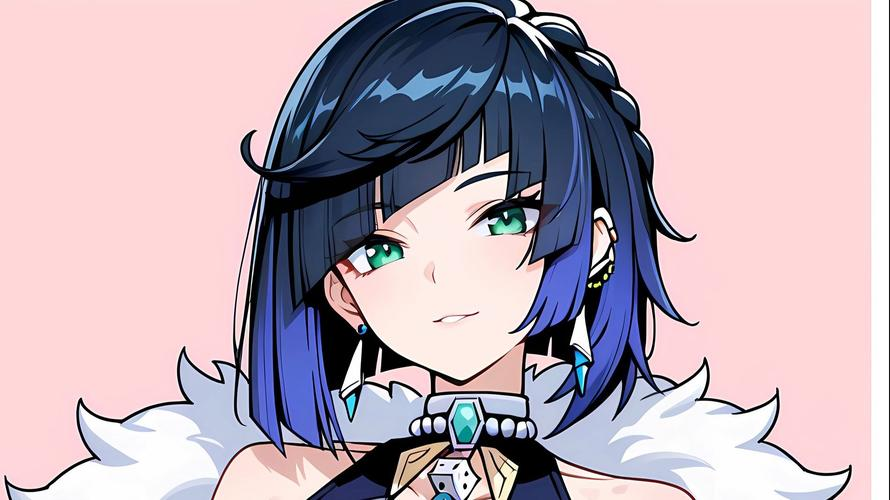夜兰: (207, 3, 699, 500)
